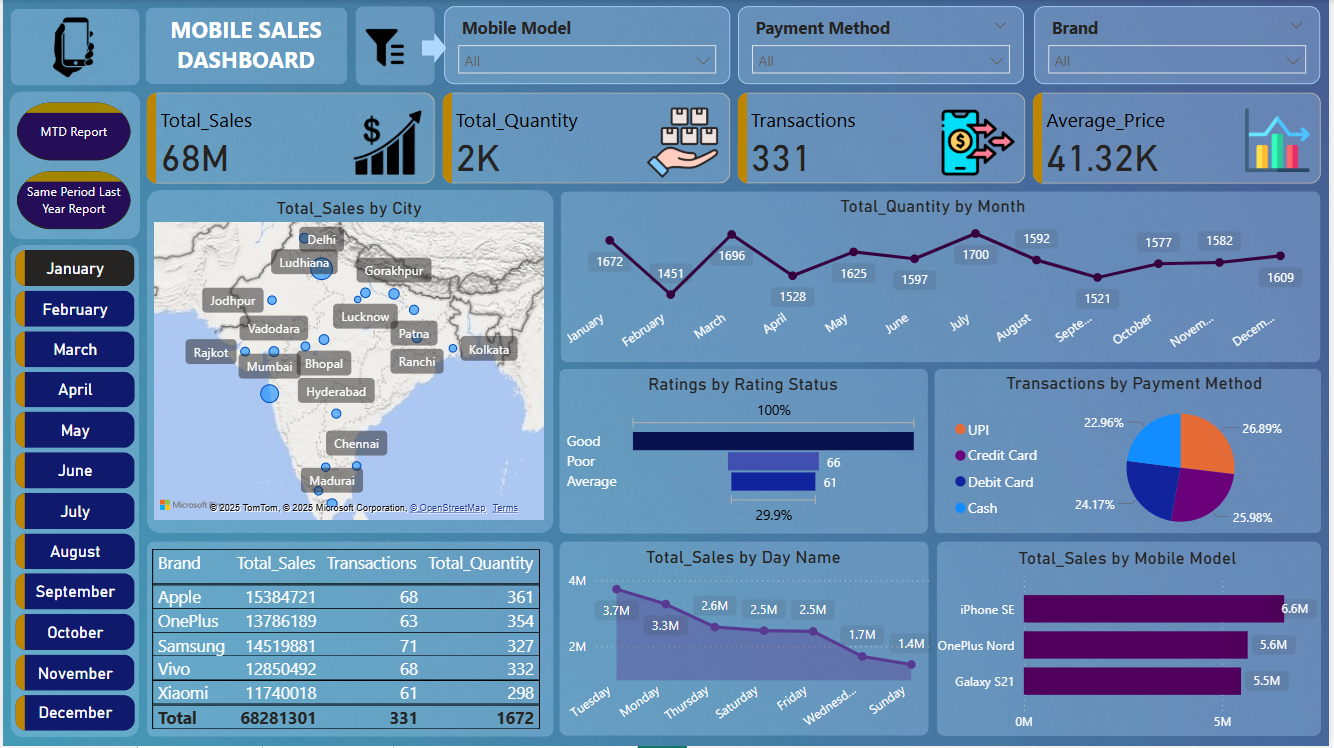

Layout of this report page (visuals, bound fields, positions):
{"tool":"powerbi","page":{"name":"Dashboard","canvas":[1280,720],"ordinal":0},"visuals":[{"type":"shape","box":[7.2,8.2,124.9,74.1],"z":0,"group":"g1"},{"type":"shape","box":[6,88.1,126.7,143.6],"z":0},{"type":"shape","box":[137.2,6.9,194.9,74.1],"z":1000},{"type":"image","box":[19.5,12.3,97.4,67.2],"z":1000,"group":"g1"},{"type":"shape","box":[7.2,236.5,124.3,475.3],"z":2000},{"type":"textbox","box":[145.5,8.2,177,74.1],"z":3000},{"type":"advancedSlicerVisual","fields":{"Values":["Custom Calendar.Date.Variation.Date Hierarchy.Month"]},"box":[7.2,236.5,125.5,474.1],"z":4000},{"type":"cardVisual","fields":{"Data":["All Measures.Total_Sales","All Measures.Total_Quantity","All Measures.Transactions","All Measures.Average_Price"]},"box":[133.9,84.5,1144.9,98.9],"z":5000},{"type":"group","id":"g1","title":"Group 1","box":[7.2,8.2,124.9,74.1],"z":6000},{"type":"slicer","fields":{"Values":["Mobile Sales Data.Mobile Model"]},"box":[426.3,6,276.2,75],"z":7000},{"type":"slicer","fields":{"Values":["Mobile Sales Data.Payment Method"]},"box":[709.9,6,276.2,75],"z":8000},{"type":"slicer","fields":{"Values":["Mobile Sales Data.Brand"]},"box":[995.1,6,276.2,75],"z":9000},{"type":"shape","box":[340.7,6,76.5,76.5],"z":10000},{"type":"image","box":[327.2,22.5,82.6,46.5],"z":11000},{"type":"shape","box":[403.8,31.5,24,30],"z":12000},{"type":"shape","box":[138.5,183.3,393.2,331.6],"z":12500,"group":"g2"},{"type":"shape","box":[538,184.6,733.5,165.3],"z":12500,"group":"g5"},{"type":"group","id":"g2","title":"Group 2","box":[138.5,183.3,393.2,331.6],"z":13000},{"type":"map","fields":{"Category":["Mobile Sales Data.City"],"Size":["All Measures.Total_Sales"]},"box":[140.9,191,386,316.3],"z":13000,"group":"g2"},{"type":"shape","box":[536.9,355.9,355.9,159.3],"z":13000,"group":"g4"},{"type":"funnel","title":"Ratings  by Rating Status","fields":{"Category":["Mobile Sales Data.Rating Status"],"Y":["CountNonNull(Mobile Sales Data.Rating Status)"]},"box":[539.8,361,350.1,150.3],"z":14000,"group":"g4"},{"type":"group","id":"g3","title":"Group 5","box":[528.4,522.4,364.3,193],"z":14000},{"type":"shape","box":[138.5,521.9,393.2,188.9],"z":15000},{"type":"lineChart","fields":{"Y":["All Measures.Total_Quantity"],"Category":["Custom Calendar.Date.Variation.Date Hierarchy.Month"]},"box":[533.2,188.2,728.7,160.5],"z":15500,"group":"g5"},{"type":"shape","box":[898.8,355.9,374,159.3],"z":15500,"group":"g6"},{"type":"pieChart","fields":{"Category":["Mobile Sales Data.Payment Method"],"Y":["All Measures.Transactions"]},"box":[913.3,359.5,357.1,165.3],"z":16000,"group":"g6"},{"type":"shape","box":[536.7,522.4,356.7,187.7],"z":16000,"group":"g3"},{"type":"shape","box":[901.3,522.4,371.6,188.2],"z":16000,"group":"g7"},{"type":"tableEx","fields":{"Values":["Mobile Sales Data.Brand","All Measures.Total_Sales","All Measures.Transactions","All Measures.Total_Quantity"]},"box":[137.1,524.7,404.4,188.9],"z":16000},{"type":"group","id":"g4","title":"Group 6","box":[536.9,355.9,355.9,159.3],"z":17000},{"type":"areaChart","fields":{"Y":["All Measures.Total_Sales"],"Category":["Custom Calendar.Day Name"]},"box":[528.4,527.7,372.7,187.7],"z":17000,"group":"g3"},{"type":"clusteredBarChart","fields":{"Category":["Mobile Sales Data.Mobile Model"],"Y":["All Measures.Total_Sales"]},"box":[891.6,528.4,387.3,187],"z":17000,"group":"g7"},{"type":"group","id":"g5","title":"Group 3","box":[533.2,184.6,738.3,165.3],"z":18000},{"type":"group","id":"g6","title":"Group 4","box":[898.8,355.9,374,168.9],"z":19000},{"type":"group","id":"g7","title":"Group 7","box":[891.6,522.4,387.3,193],"z":20000},{"type":"pageNavigator","box":[13.3,98.9,111,123.1],"z":21000}]}

Visuals, with their boxes in screenshot pixels (x1, y1, x2, y2), scaled from the page's 1280x720 canvas onto the 1334x748 screenshot:
shape: x1=8 y1=9 x2=138 y2=86
shape: x1=6 y1=92 x2=138 y2=241
shape: x1=143 y1=7 x2=346 y2=84
image: x1=20 y1=13 x2=122 y2=83
shape: x1=8 y1=246 x2=137 y2=739
textbox: x1=152 y1=9 x2=336 y2=86
advancedSlicerVisual - Custom Calendar.Date.Variation.Date Hierarchy.Month: x1=8 y1=246 x2=138 y2=738
cardVisual - All Measures.Total_Sales x All Measures.Total_Quantity: x1=140 y1=88 x2=1333 y2=191
"Group 1" group: x1=8 y1=9 x2=138 y2=86
slicer - Mobile Sales Data.Mobile Model: x1=444 y1=6 x2=732 y2=84
slicer - Mobile Sales Data.Payment Method: x1=740 y1=6 x2=1028 y2=84
slicer - Mobile Sales Data.Brand: x1=1037 y1=6 x2=1325 y2=84
shape: x1=355 y1=6 x2=435 y2=86
image: x1=341 y1=23 x2=427 y2=72
shape: x1=421 y1=33 x2=446 y2=64
shape: x1=144 y1=190 x2=554 y2=535
shape: x1=561 y1=192 x2=1325 y2=364
"Group 2" group: x1=144 y1=190 x2=554 y2=535
map - Mobile Sales Data.City x All Measures.Total_Sales: x1=147 y1=198 x2=549 y2=527
shape: x1=560 y1=370 x2=930 y2=535
"Ratings  by Rating Status" funnel: x1=563 y1=375 x2=927 y2=531
"Group 5" group: x1=551 y1=543 x2=930 y2=743
shape: x1=144 y1=542 x2=554 y2=738
lineChart - All Measures.Total_Quantity x Custom Calendar.Date.Variation.Date Hierarchy.Month: x1=556 y1=196 x2=1315 y2=362
shape: x1=937 y1=370 x2=1326 y2=535
pieChart - Mobile Sales Data.Payment Method x All Measures.Transactions: x1=952 y1=373 x2=1324 y2=545
shape: x1=559 y1=543 x2=931 y2=738
shape: x1=939 y1=543 x2=1327 y2=738
tableEx - Mobile Sales Data.Brand x All Measures.Total_Sales: x1=143 y1=545 x2=564 y2=741
"Group 6" group: x1=560 y1=370 x2=930 y2=535
areaChart - All Measures.Total_Sales x Custom Calendar.Day Name: x1=551 y1=548 x2=939 y2=743
clusteredBarChart - Mobile Sales Data.Mobile Model x All Measures.Total_Sales: x1=929 y1=549 x2=1333 y2=743
"Group 3" group: x1=556 y1=192 x2=1325 y2=364
"Group 4" group: x1=937 y1=370 x2=1326 y2=545
"Group 7" group: x1=929 y1=543 x2=1333 y2=743
pageNavigator: x1=14 y1=103 x2=130 y2=231
